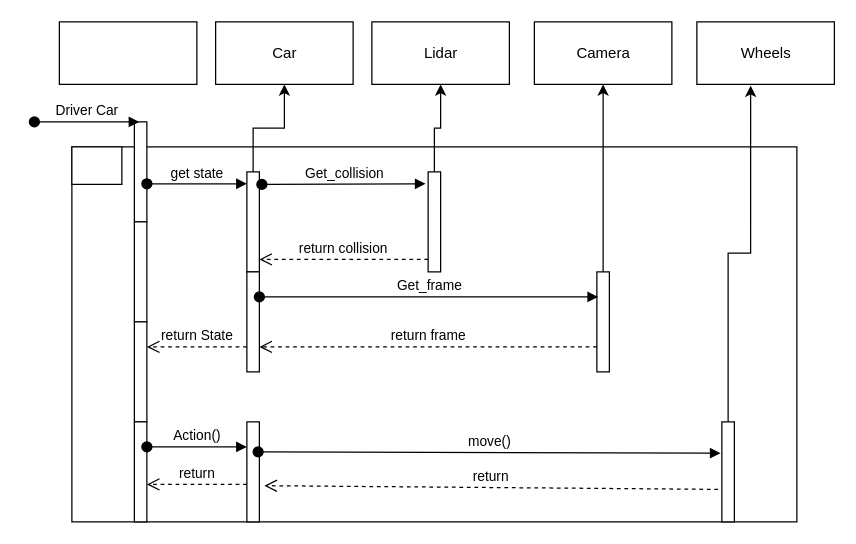
Some shapes in this 856 by 544 pixel diagram are drawn without their labels. Here are the shapes that lost their labels. From the top down, the centre of each, then its label:
At point 127,52: "Driver".
At point 96,165: "Loop".
